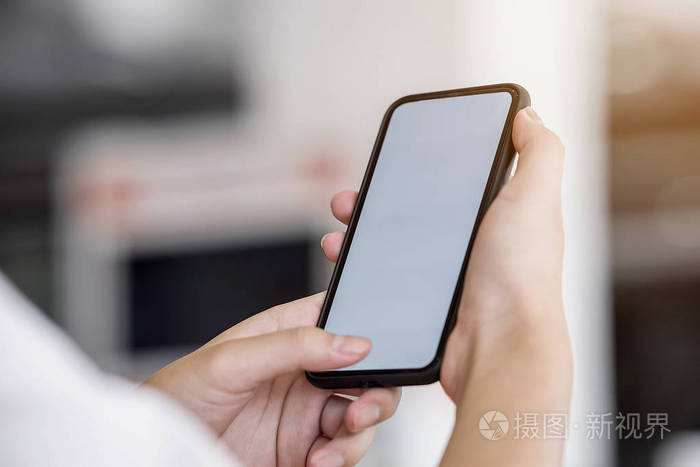phone: (177, 76, 584, 456)
